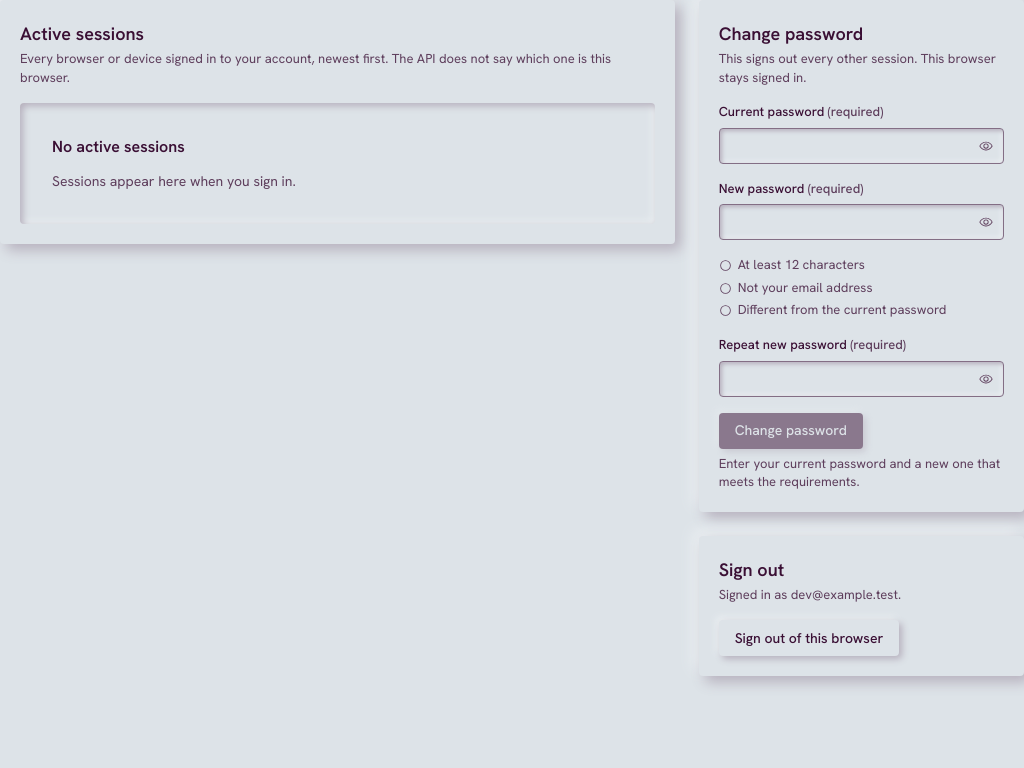
Change password › shows the server message for a rejected new password
The image size is (1024, 768).
Type "old-password-1" into the password field labelled "Current password (required)" at {"x": 861, "y": 146}, box left=719, top=128, right=1004, bottom=164
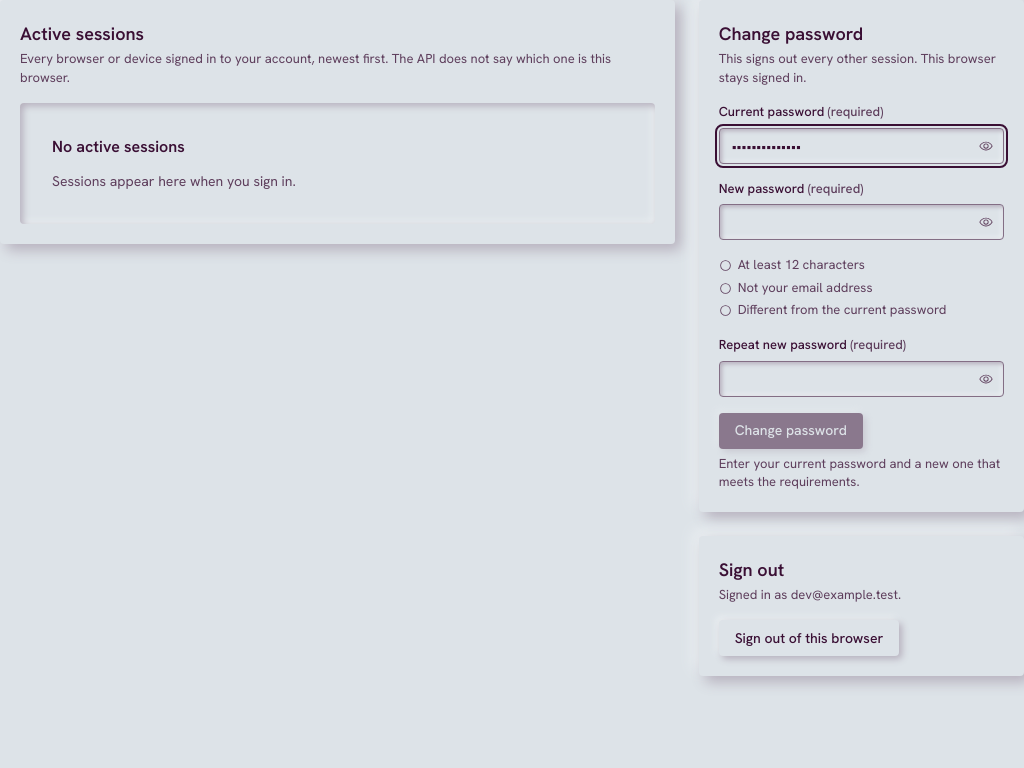
Type "a-new-password-12" into the password field labelled "New password (required)" at {"x": 861, "y": 222}, box left=719, top=204, right=1004, bottom=240
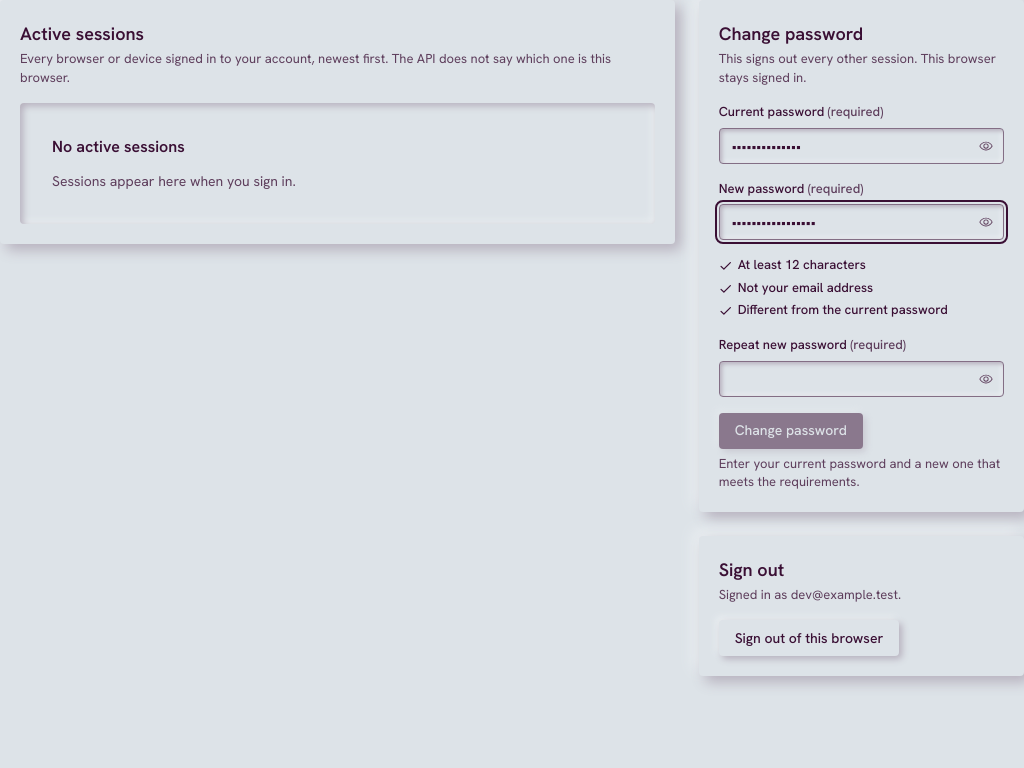
Type "a-new-password-12" into the password field labelled "Repeat new password (required)" at {"x": 861, "y": 378}, box left=719, top=360, right=1004, bottom=396
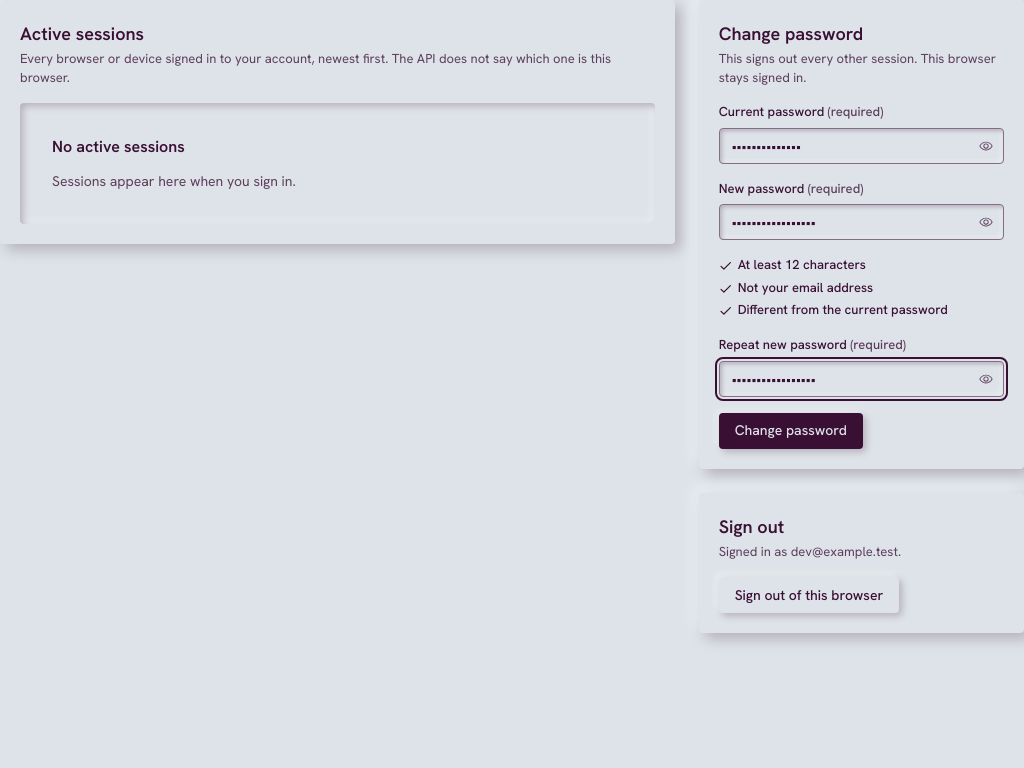
Click the button "Change password" at {"x": 791, "y": 430}, box left=719, top=412, right=863, bottom=448
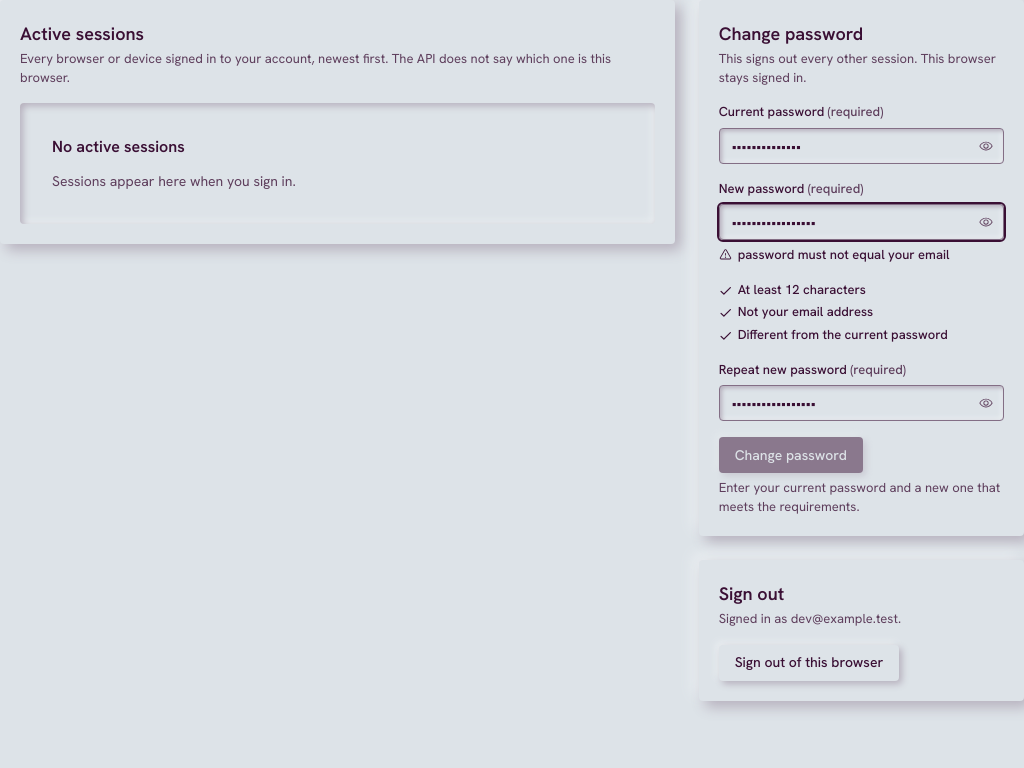
Now the text "password must not equal your email" is shown, box left=719, top=246, right=950, bottom=263
